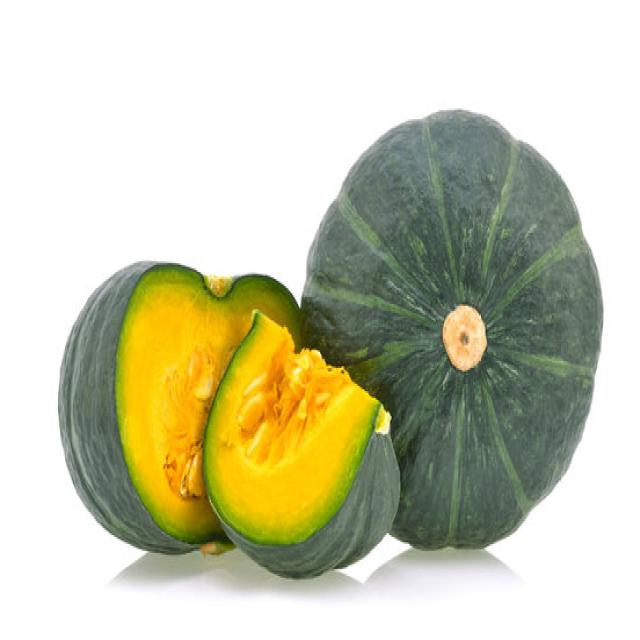Carrot: (198, 538, 236, 556)
Ginger: (441, 302, 487, 372)
Pumpkin: (299, 105, 603, 549), (57, 258, 301, 556), (201, 308, 401, 580)
